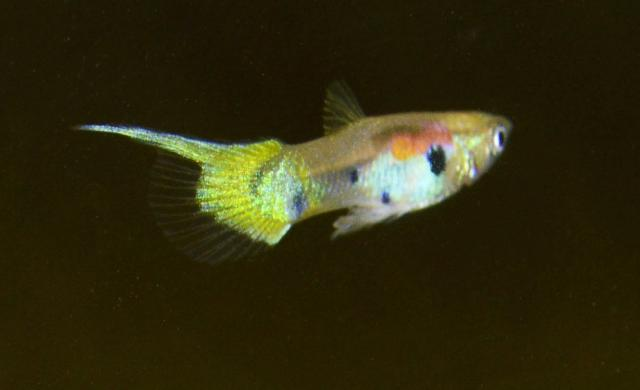Sirip Anal: (314, 190, 404, 249)
Sirip Ekor: (65, 101, 309, 293)
Sirip Punggung: (310, 74, 374, 148)
